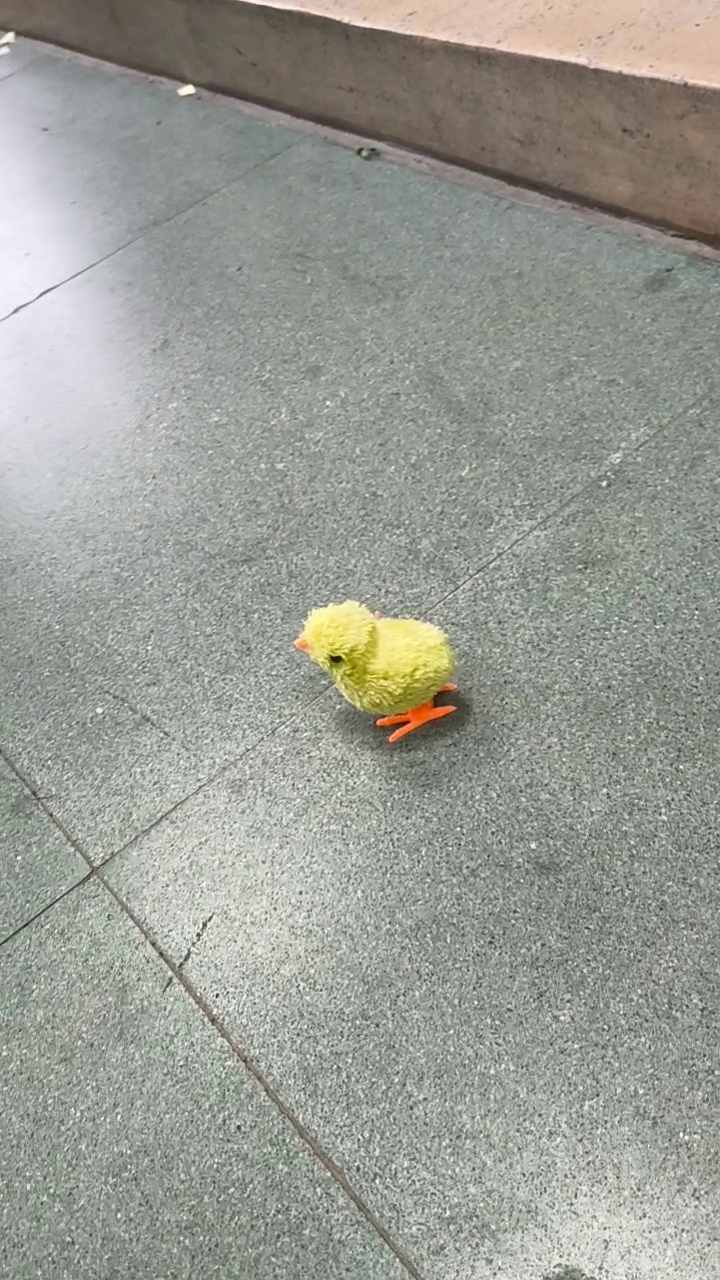yellow chicken: (289, 596, 466, 745)
